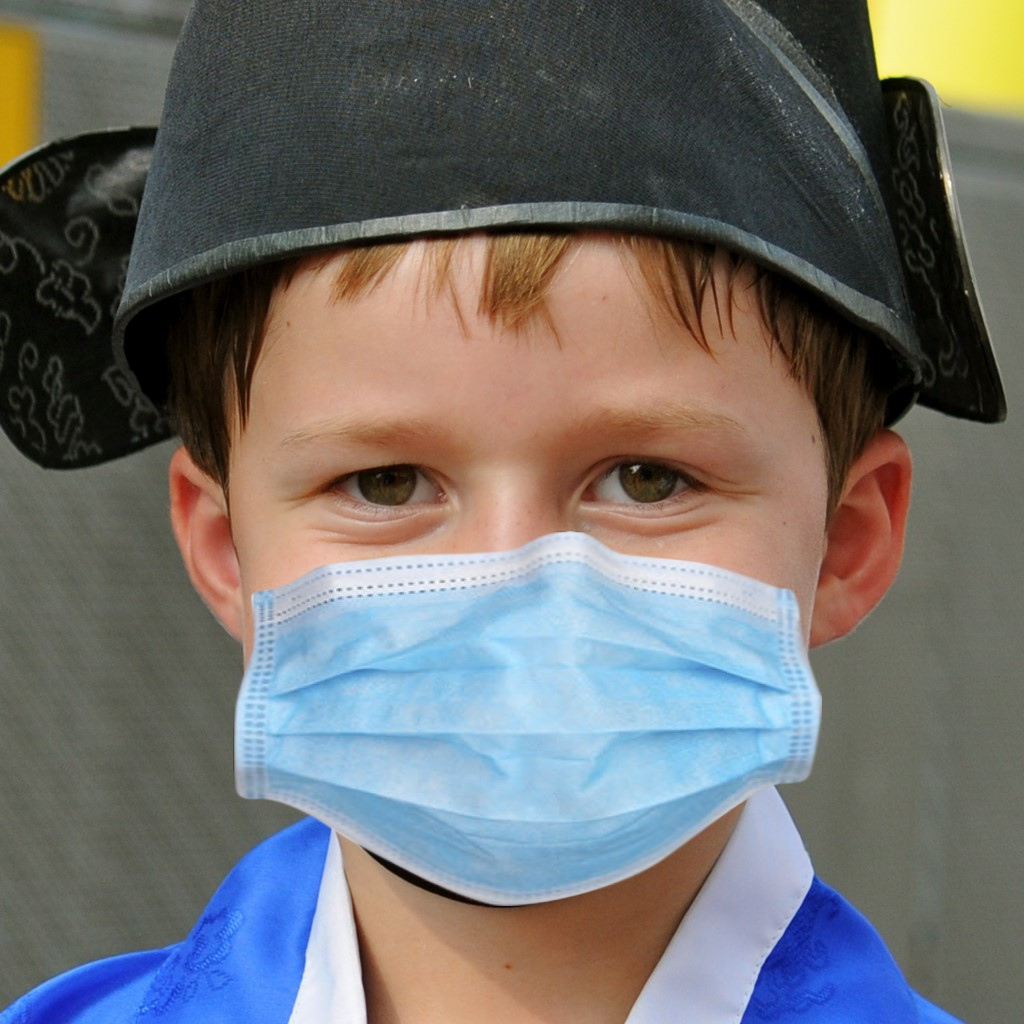con_mascara: (179, 237, 877, 897)
